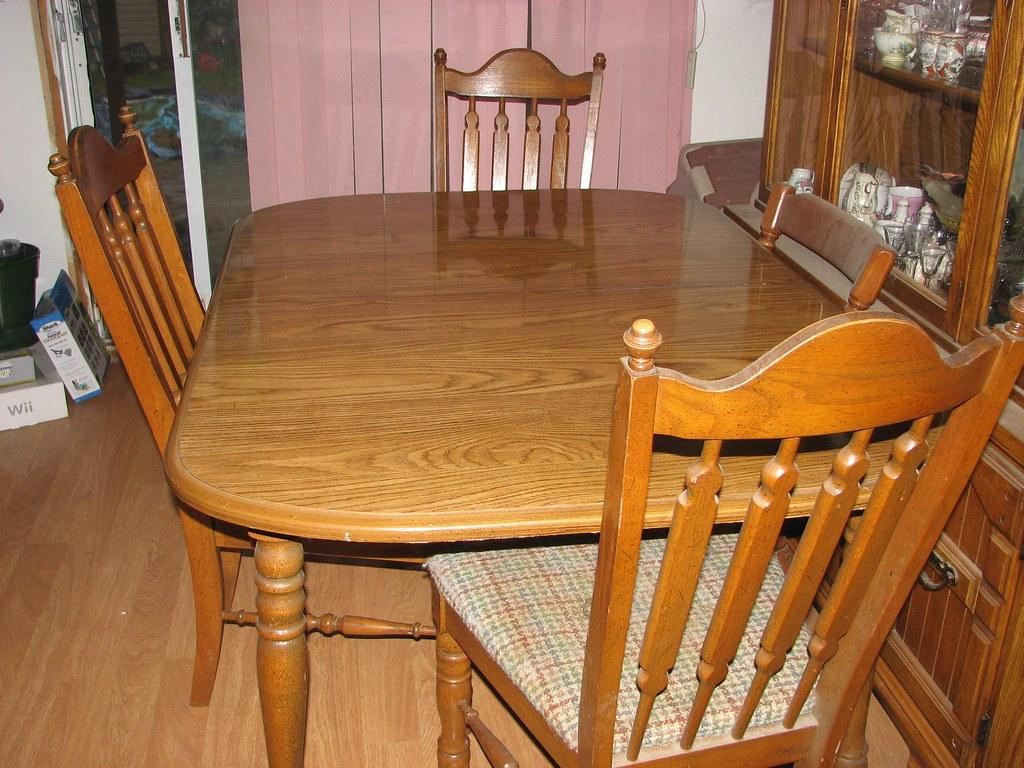table: (161, 186, 930, 766)
